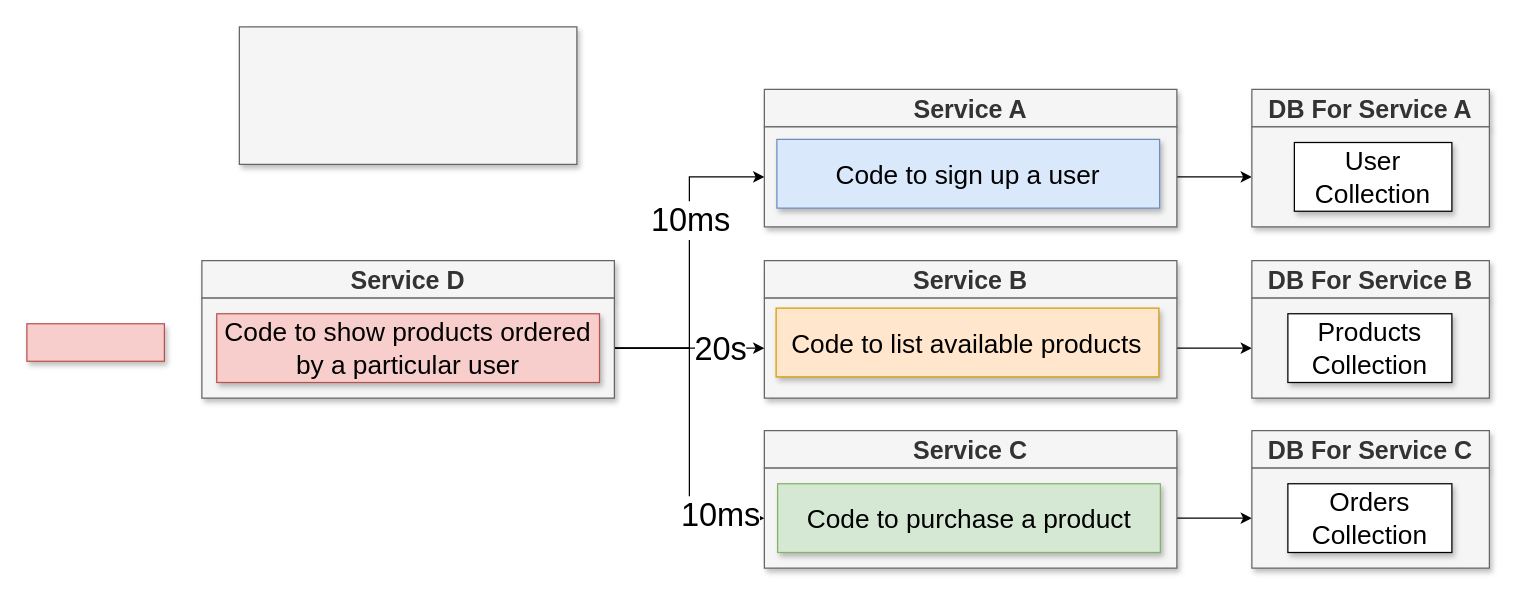
This 1519x599 diagram has some shape labels left out. Each missing label, with the centre of its shape:
"Example of Sync communication" goes at point (408, 97).
"Request" goes at point (96, 344).
